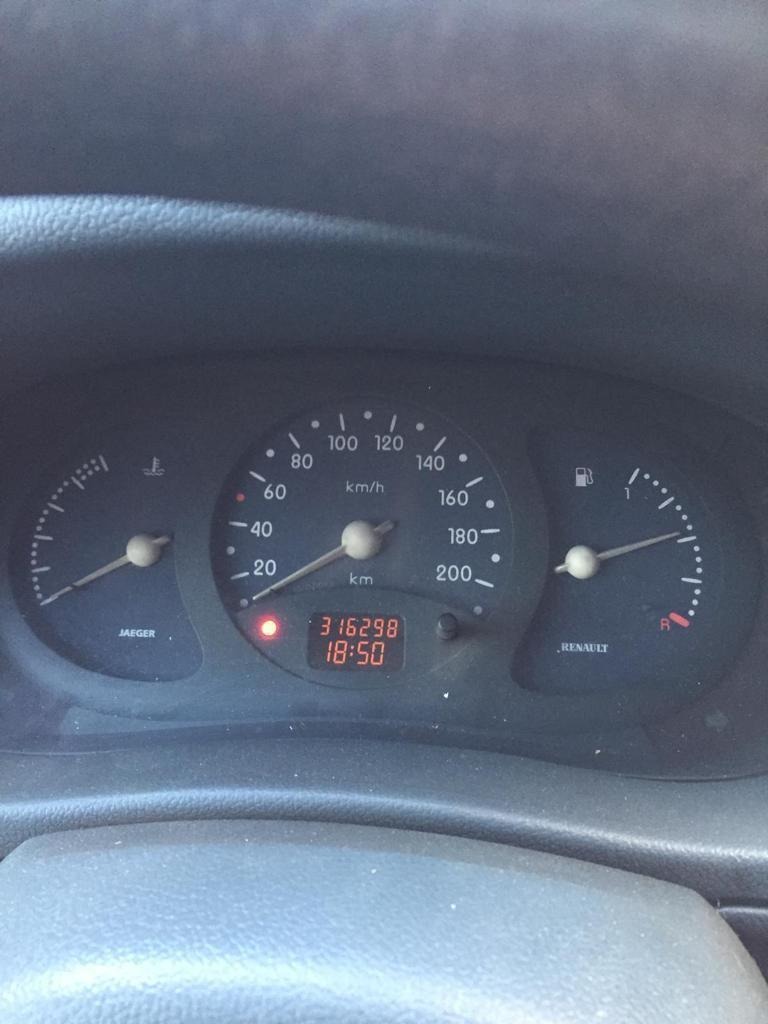0: (370, 641, 384, 665)
1: (325, 640, 332, 662), (338, 618, 343, 634)
2: (358, 617, 370, 637)
3: (319, 616, 330, 635)
5: (356, 641, 369, 664)
6: (345, 617, 356, 636)
8: (332, 640, 347, 664), (386, 618, 397, 638)
9: (372, 618, 384, 637)
X: (348, 644, 355, 657)
odometer: (305, 610, 406, 671)
